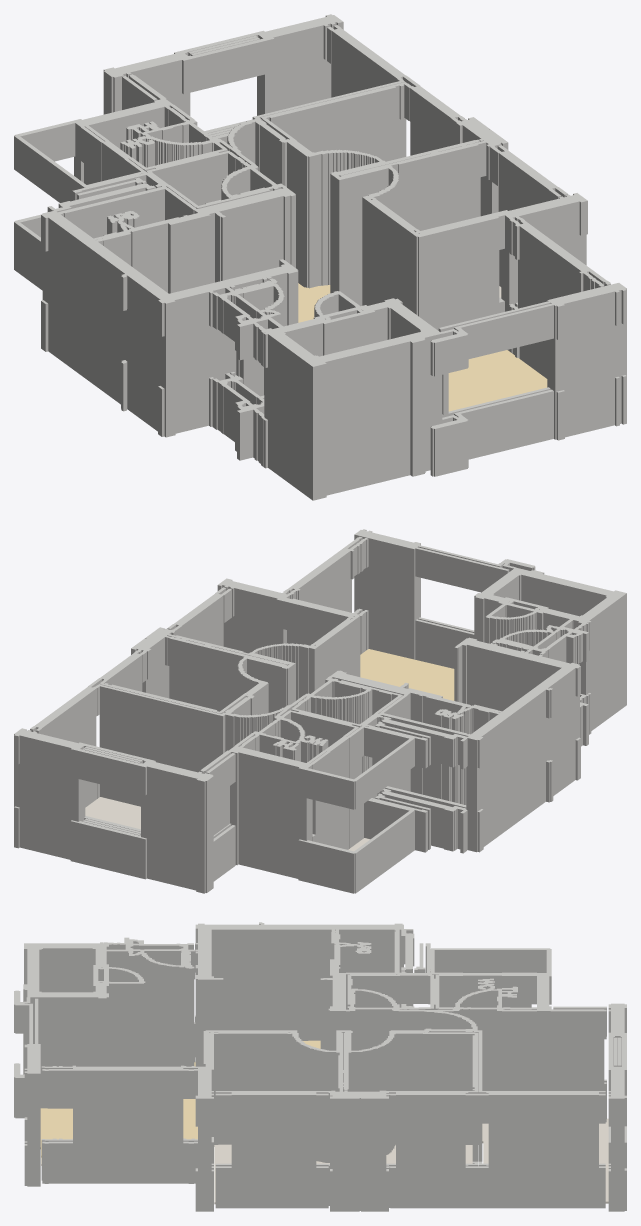
The picture shows the model from 3 angles, top to bottom: view 1: azimuth 30°, elevation 25°; view 2: azimuth 150°, elevation 25°; view 3: azimuth 270°, elevation 25°; orthographic projection. The views are drawn at different scales.
Visible parts, largest first — view 1: walls, room:living:1; view 2: walls, room:living:0, room:other:2; view 3: walls, room:living:0, room:other:2, room:living:1, room:other:10.
Boxes of the visible parts, x1,y1,x2,y2 form: walls: [14, 14, 626, 500]; room:living:1: [298, 283, 547, 411]; walls: [14, 529, 626, 893]; room:living:0: [360, 649, 454, 700]; room:other:2: [85, 797, 140, 829]; walls: [14, 922, 626, 1211]; room:living:0: [40, 1108, 72, 1165]; room:other:2: [482, 1118, 608, 1203]; room:living:1: [183, 1040, 320, 1139]; room:other:10: [214, 1144, 329, 1204].
Size of the model in its own units: 9.36 by 2.8 by 13.76.
